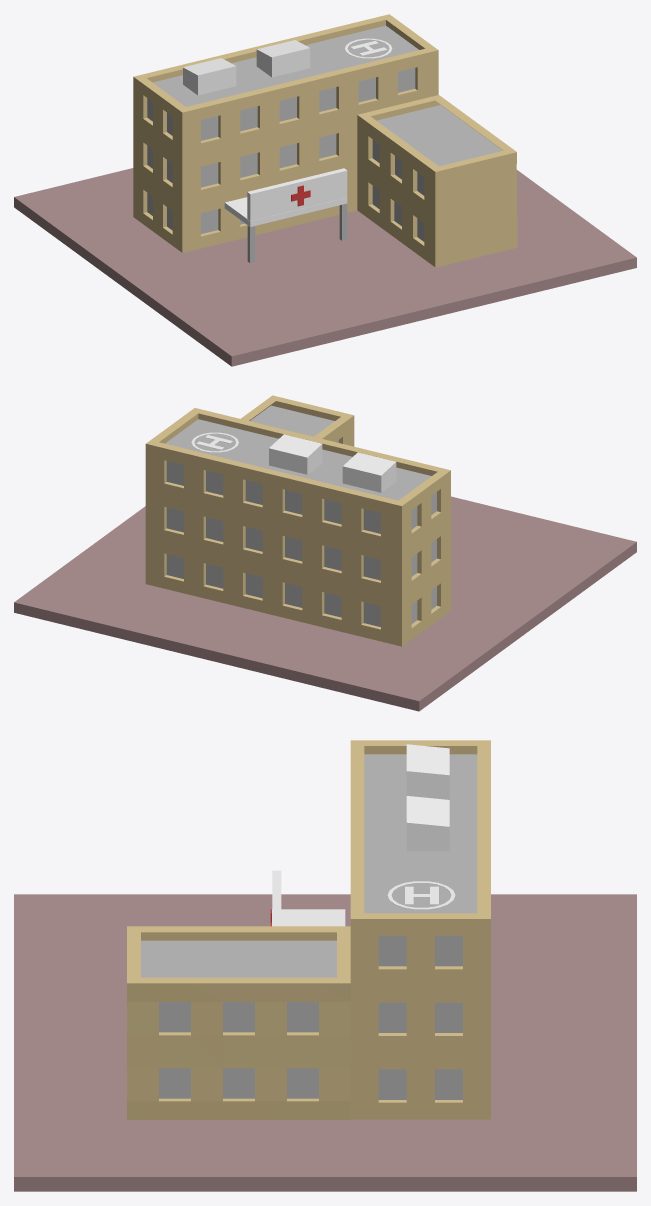
3 views of the same model, one above another, from view 1: azimuth 30°, elevation 25°; view 2: azimuth 150°, elevation 25°; view 3: azimuth 270°, elevation 25° (orthographic). The views are drawn at different scales.
Parts seen in each view (by area): view 1: Box005, Box006; view 2: Box005, Box006; view 3: Box006, Box005.
Part boxes in pixels (left/top/right/bottom): Box005: left=133, top=14, right=517, bottom=267; Box006: left=14, top=168, right=636, bottom=366; Box005: left=145, top=395, right=450, bottom=646; Box006: left=14, top=496, right=636, bottom=711; Box006: left=14, top=894, right=636, bottom=1191; Box005: left=127, top=740, right=490, bottom=1119.
Size of the model in its own units: 146 by 57.07 by 136.
